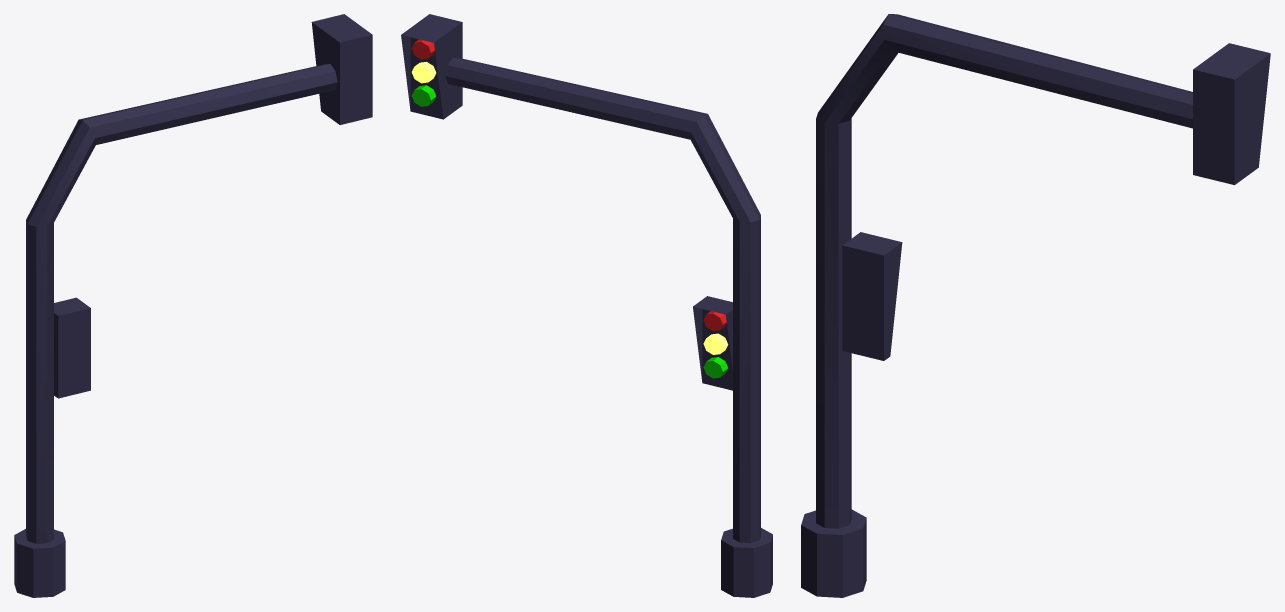
Rendered from Traffic Light.fbx.
3 views of the same model, side by side, from view 1: azimuth 30°, elevation 25°; view 2: azimuth 150°, elevation 25°; view 3: azimuth 330°, elevation 25° (orthographic). The views are drawn at different scales.
Parts seen in each view (by area): view 1: Traffic Light; view 2: Traffic Light; view 3: Traffic Light.
Boxes of the visible parts, x1,y1,x2,y2 form: Traffic Light: (14, 14, 372, 597); Traffic Light: (401, 14, 772, 597); Traffic Light: (801, 14, 1270, 597).
Bounding box in the file's own units: 299 × 48.05 × 397.
